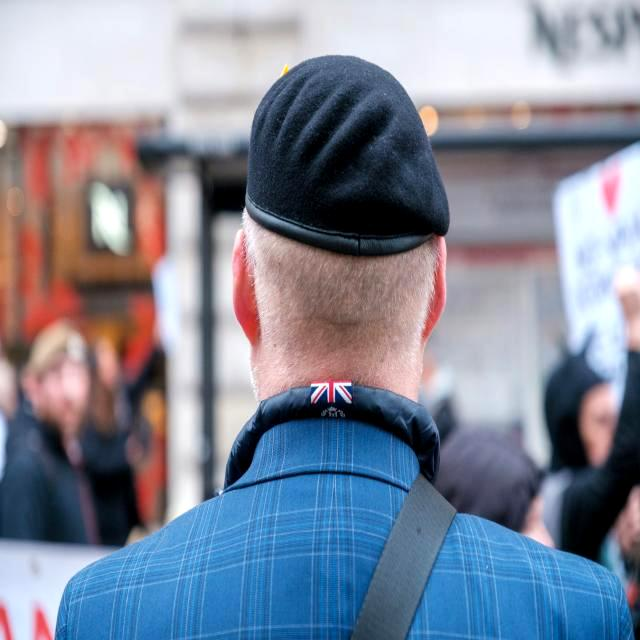no_hard_hat: (246, 55, 449, 256)
person: (56, 56, 633, 640)
